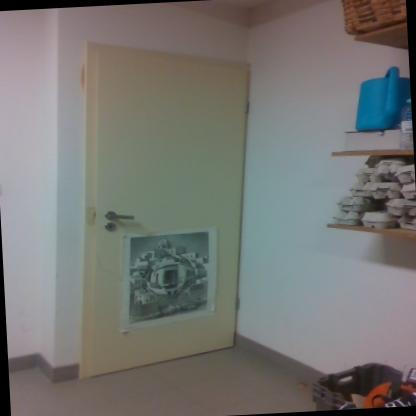closed: (68, 44, 280, 366)
